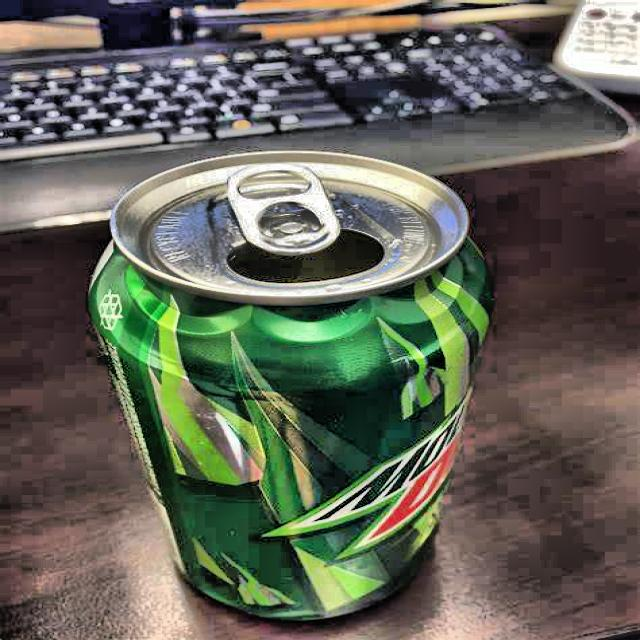Cans: (69, 138, 492, 623)
